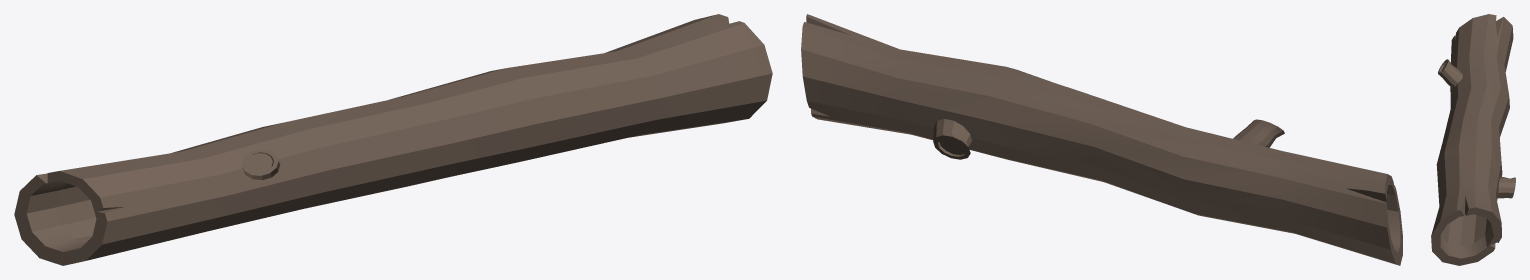
File: HolleBoomstronk.fbx
3 renders of one model, left to right at view 1: azimuth 30°, elevation 25°; view 2: azimuth 150°, elevation 25°; view 3: azimuth 270°, elevation 25°, orthographic. The views are drawn at different scales.
Parts seen in each view (by area): view 1: pasted__polySurface236; view 2: pasted__polySurface236; view 3: pasted__polySurface236.
Part boxes in pixels (<box>): pasted__polySurface236: <box>14,14,772,265</box>; pasted__polySurface236: <box>801,14,1402,265</box>; pasted__polySurface236: <box>1431,14,1515,265</box>.
Size of the model in its own units: 4.34 by 0.5849 by 0.7379.
